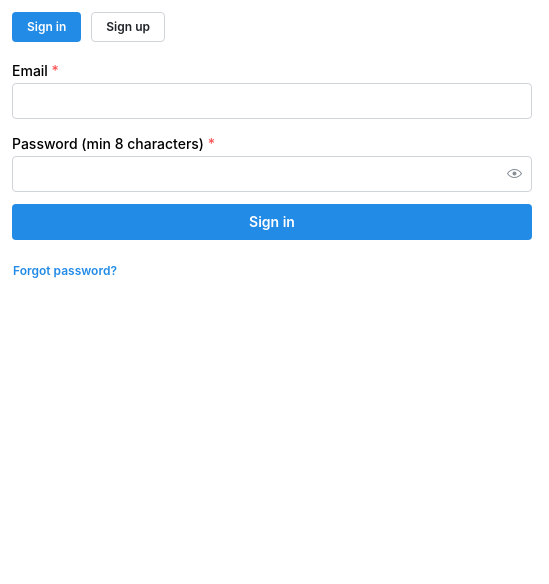
Test case: AuthPanel flows › registers with consent, prefills the emailed token, and verifies
The width and height of the screenshot is (549, 584).
Click the button "Sign up".
click(128, 27)  # box x1=91 y1=12 x2=165 y2=42
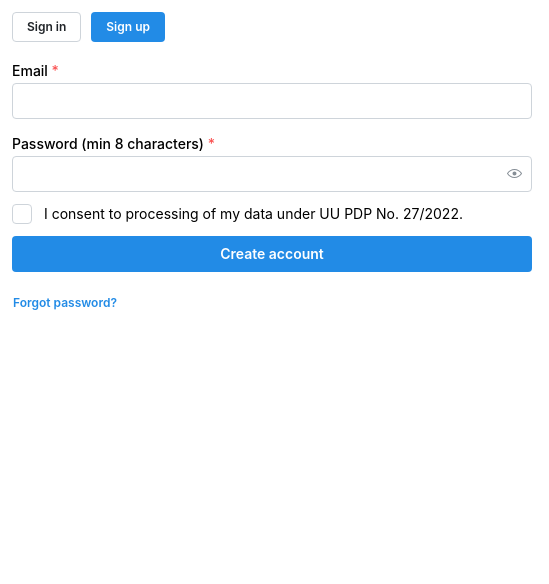
Type "a@b.co" into the field labelled "Email *".
click(272, 101); type("a@b.co")  # box x1=12 y1=83 x2=532 y2=119
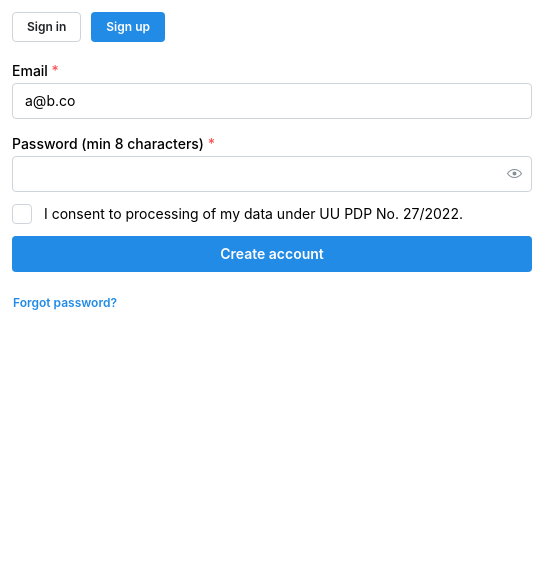
Type "password123" into the password field labelled "Password (min 8 characters) *".
click(272, 174); type("password123")  # box x1=13 y1=157 x2=531 y2=191
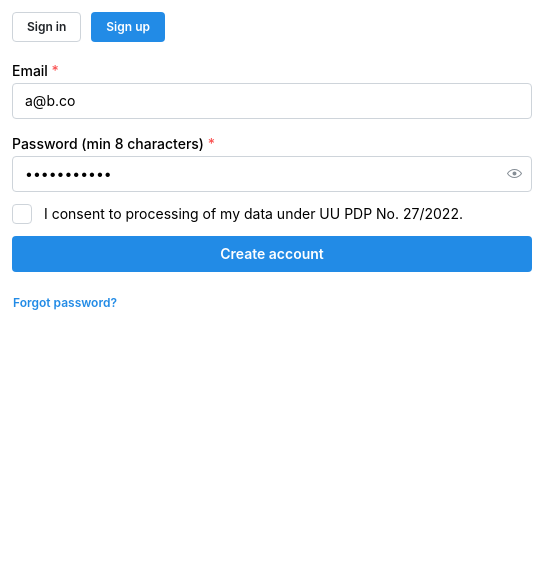
Click the checkbox.
click(22, 214)  # box x1=12 y1=204 x2=32 y2=224
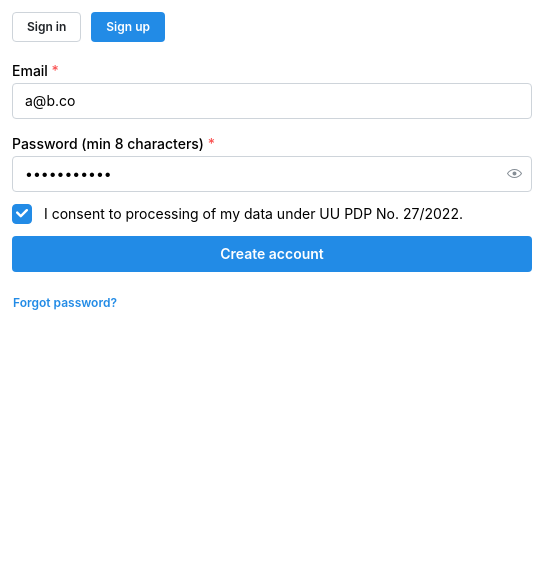
Click the button "Create account".
click(272, 254)  # box x1=12 y1=236 x2=532 y2=272
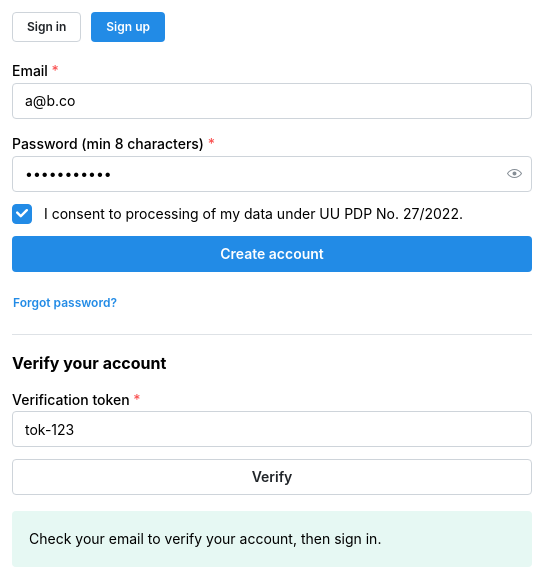
Now the text "Check your email to verify your account, then sign in." is shown, box x1=29 y1=530 x2=381 y2=547
Now the field labelled "Verification token *" holds "tok-123", box x1=12 y1=411 x2=532 y2=447
Click the button "Verify".
click(272, 477)  # box x1=12 y1=459 x2=532 y2=495
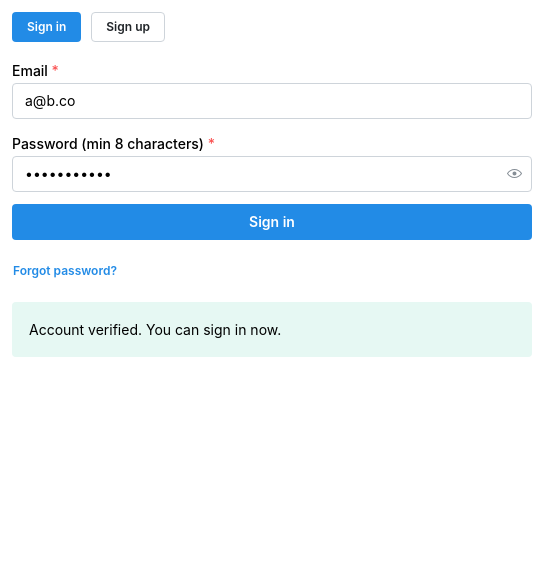
Now the text "Account verified. You can sign in now." is shown, box x1=29 y1=321 x2=281 y2=338
